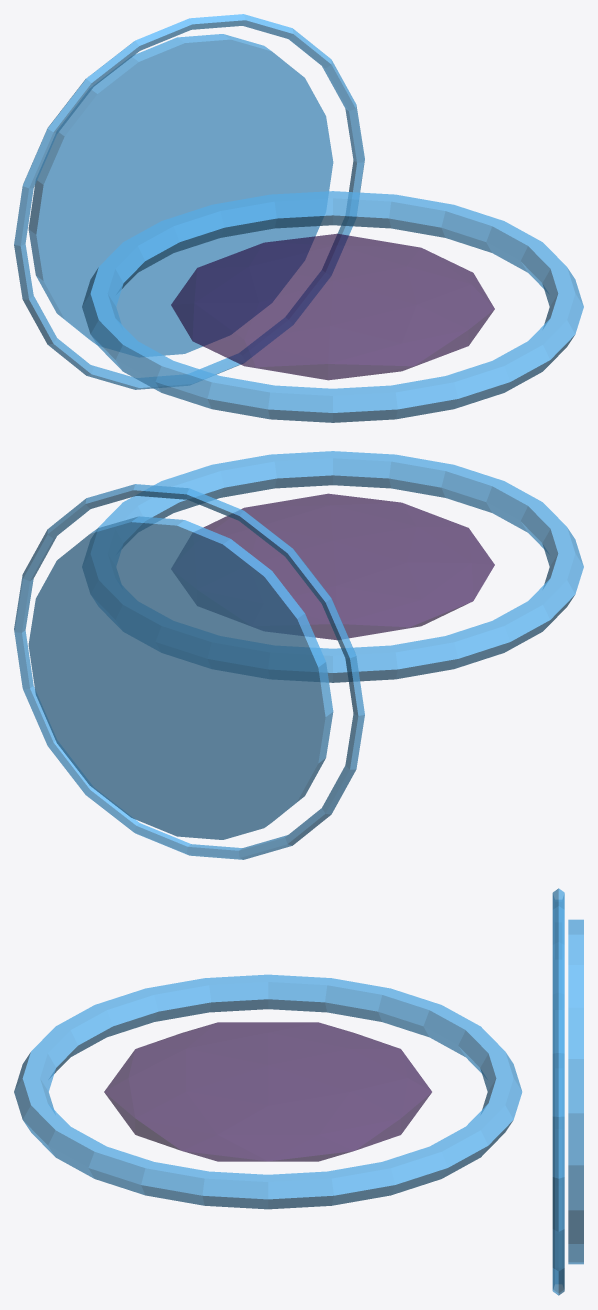
File: 08_fast_travel_node.glb
3 renders of one model, top to bottom at view 1: azimuth 30°, elevation 25°; view 2: azimuth 150°, elevation 25°; view 3: azimuth 270°, elevation 25°, orthographic.
Parts seen in each view (by area): view 1: base_disc, portal_ring, portal_core, base_ring; view 2: base_disc, portal_ring, portal_core, base_ring; view 3: portal_ring, portal_core, base_disc, base_ring.
Boxes of the visible parts, bbox=[...] form: base_disc: bbox=[28, 34, 333, 356]; portal_ring: bbox=[82, 191, 583, 422]; portal_core: bbox=[171, 233, 494, 380]; base_ring: bbox=[14, 14, 364, 389]; base_disc: bbox=[28, 516, 333, 839]; portal_ring: bbox=[82, 451, 583, 682]; portal_core: bbox=[203, 493, 494, 640]; base_ring: bbox=[14, 484, 364, 859]; portal_ring: bbox=[14, 974, 522, 1209]; portal_core: bbox=[104, 1022, 431, 1161]; base_disc: bbox=[568, 919, 583, 1264]; base_ring: bbox=[552, 888, 564, 1295].
Size of the model in its own units: 1.61 by 1.3 by 1.8.
